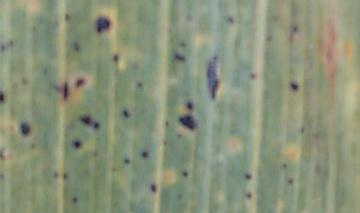tarspot: (207, 54, 219, 99), (178, 115, 196, 130), (96, 15, 110, 33), (19, 122, 32, 135), (287, 79, 299, 92), (63, 79, 69, 100), (81, 114, 92, 125), (174, 53, 186, 62), (226, 14, 235, 24), (122, 108, 131, 118), (243, 189, 252, 199), (149, 183, 157, 194), (186, 100, 194, 111), (73, 139, 82, 148), (299, 125, 306, 136), (7, 38, 15, 47), (1, 41, 7, 53), (51, 169, 59, 178), (265, 33, 273, 42), (76, 79, 86, 86), (21, 75, 28, 85), (181, 168, 188, 178), (92, 148, 99, 158), (92, 120, 100, 128), (141, 150, 149, 158), (244, 172, 252, 180), (74, 42, 81, 51), (64, 13, 71, 22), (248, 72, 257, 79), (1, 91, 6, 103), (281, 161, 288, 169), (162, 138, 169, 146), (176, 132, 184, 139), (1, 149, 6, 160), (113, 54, 119, 63), (62, 172, 68, 181), (292, 24, 298, 33), (164, 117, 169, 127), (137, 81, 144, 88), (71, 196, 78, 203), (123, 158, 130, 165), (287, 176, 293, 184), (1, 172, 6, 181), (31, 143, 37, 149), (181, 41, 186, 48)
